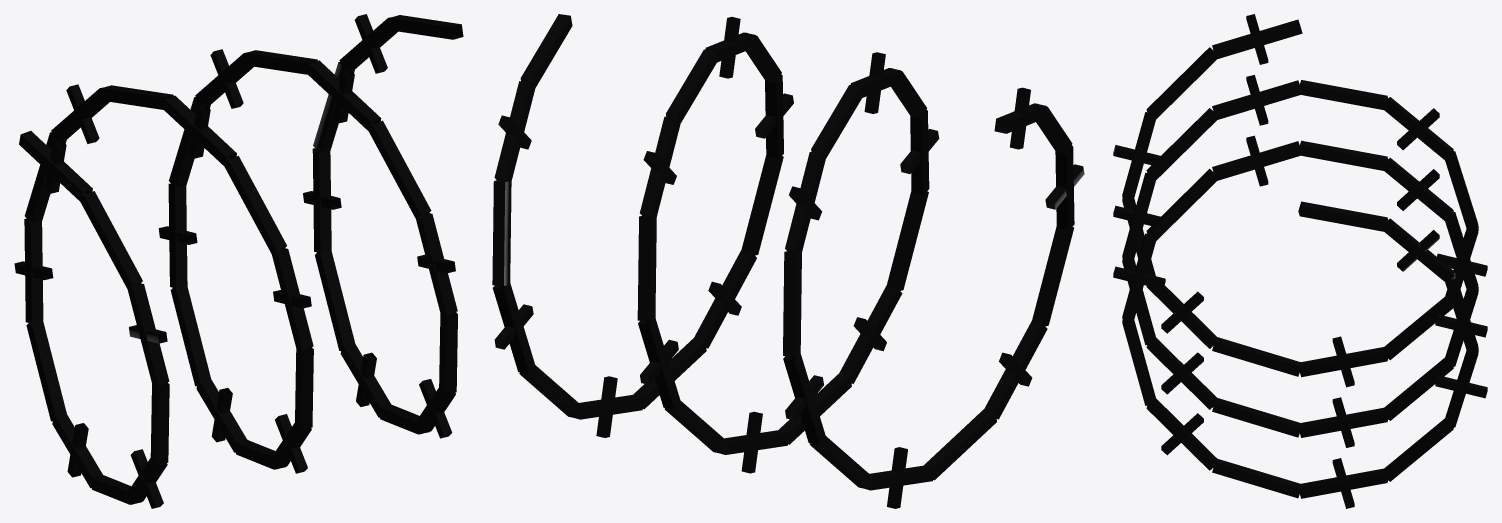
Rendered from barbeles.obj.
3 renders of one model, left to right at view 1: azimuth 30°, elevation 25°; view 2: azimuth 150°, elevation 25°; view 3: azimuth 270°, elevation 25°, orthographic. The views are drawn at different scales.
Parts seen in each view (by area): view 1: corps; view 2: corps; view 3: corps.
Boxes of the visible parts, <box> form: corps: <box>14,14,463,508</box>; corps: <box>492,14,1084,508</box>; corps: <box>1113,14,1487,508</box>.
Bounding box in the file's own units: 1.03 × 0.8674 × 0.8674.
